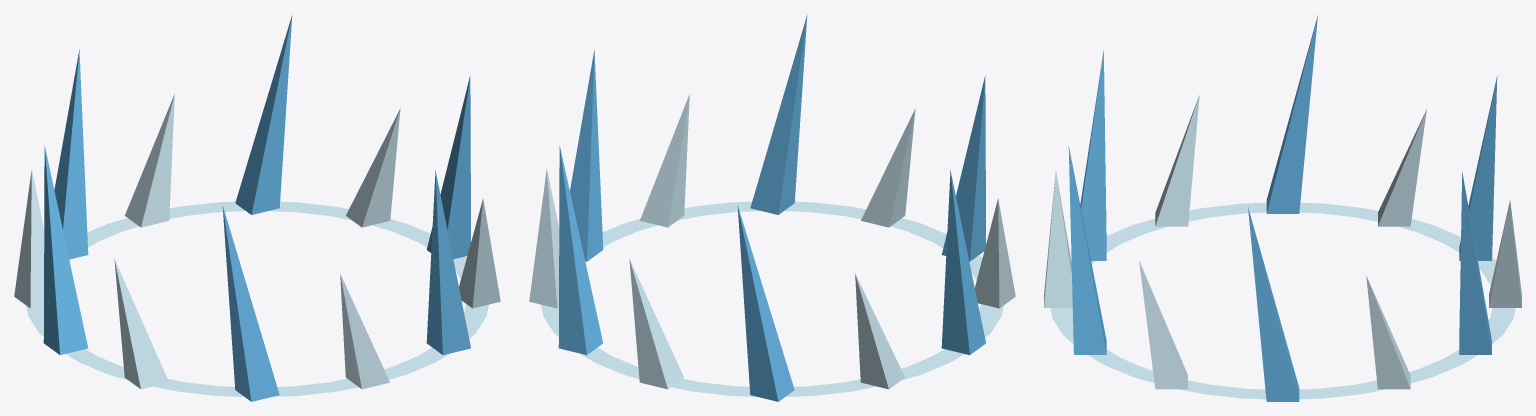
File: lich_aura.glb
3 renders of one model, left to right at view 1: azimuth 30°, elevation 25°; view 2: azimuth 150°, elevation 25°; view 3: azimuth 270°, elevation 25°, orthographic.
Visible parts, largest first — view 1: lich_aura; view 2: lich_aura; view 3: lich_aura.
Boxes of the visible parts, left/top/right/bottom form: lich_aura: left=14, top=15, right=500, bottom=401; lich_aura: left=529, top=15, right=1015, bottom=401; lich_aura: left=1044, top=15, right=1521, bottom=401.
Size of the model in its own units: 2.04 by 0.9 by 2.04.
Materials: 1 (1 with a texture image).
